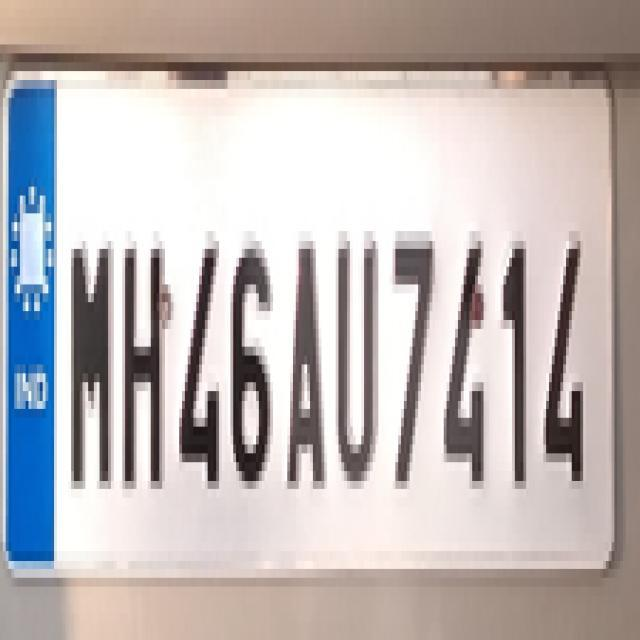1: (498, 239, 540, 516)
4: (177, 223, 227, 488), (442, 235, 488, 518), (545, 223, 590, 502)
6: (230, 224, 274, 501)
7: (390, 204, 438, 502)
A: (281, 216, 330, 516)
H: (121, 236, 169, 508)
M: (66, 234, 118, 506)
U: (332, 218, 382, 500)
